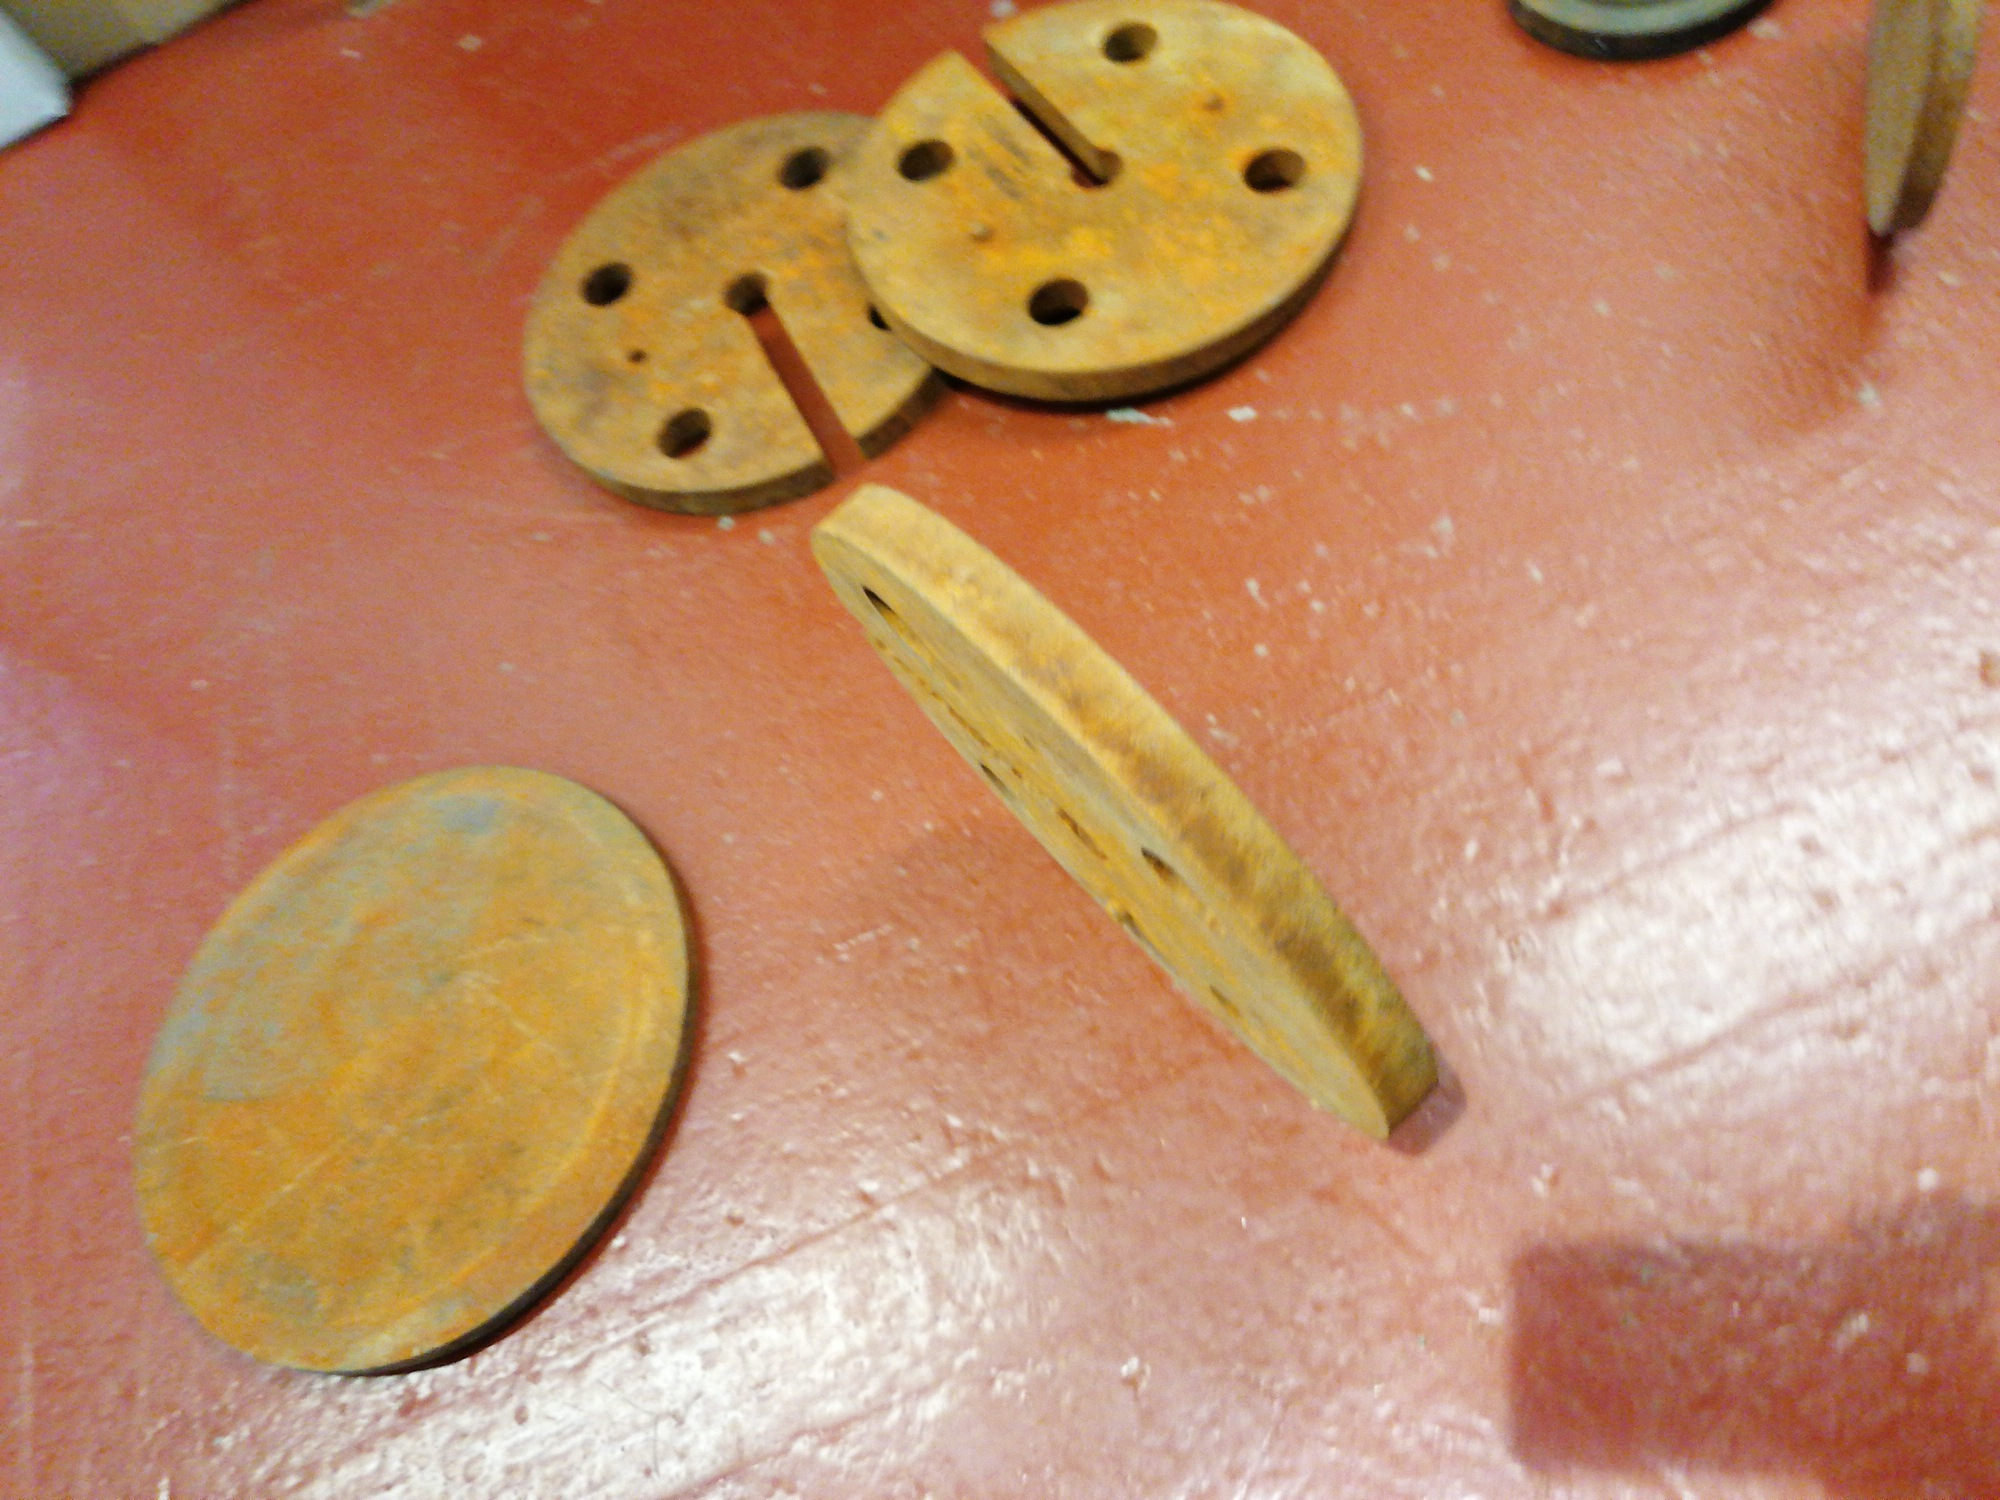flange: (809, 479, 1450, 1141), (134, 763, 702, 1380), (846, 2, 1365, 399), (517, 99, 976, 518), (1858, 0, 1987, 239), (1502, 3, 1773, 61)
